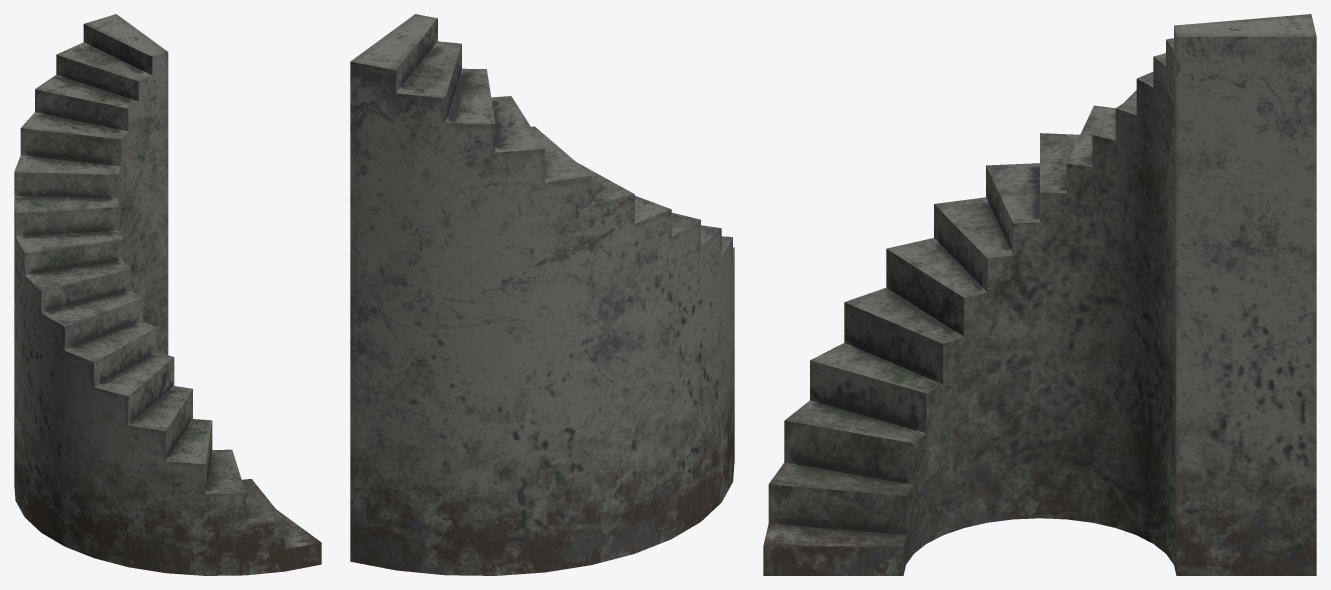
File: stone_circular_stairs.glb
The picture shows the model from 3 angles, left to right: view 1: azimuth 30°, elevation 25°; view 2: azimuth 150°, elevation 25°; view 3: azimuth 270°, elevation 25°; orthographic projection. The views are drawn at different scales.
Parts seen in each view (by area): view 1: Stairs_LP; view 2: Stairs_LP; view 3: Stairs_LP.
Boxes of the visible parts, x1,y1,x2,y2 form: Stairs_LP: (14,14,321,575); Stairs_LP: (350,14,734,575); Stairs_LP: (763,14,1316,575).
Size of the model in its own units: 6.8 by 14.63 by 13.61.
1 material, 1 textured.
